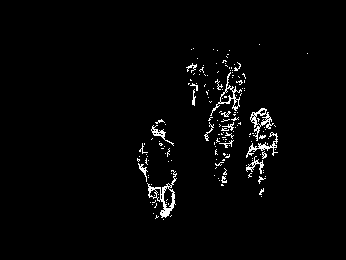person: (136, 117, 180, 221), (246, 104, 280, 200), (209, 89, 239, 188)
